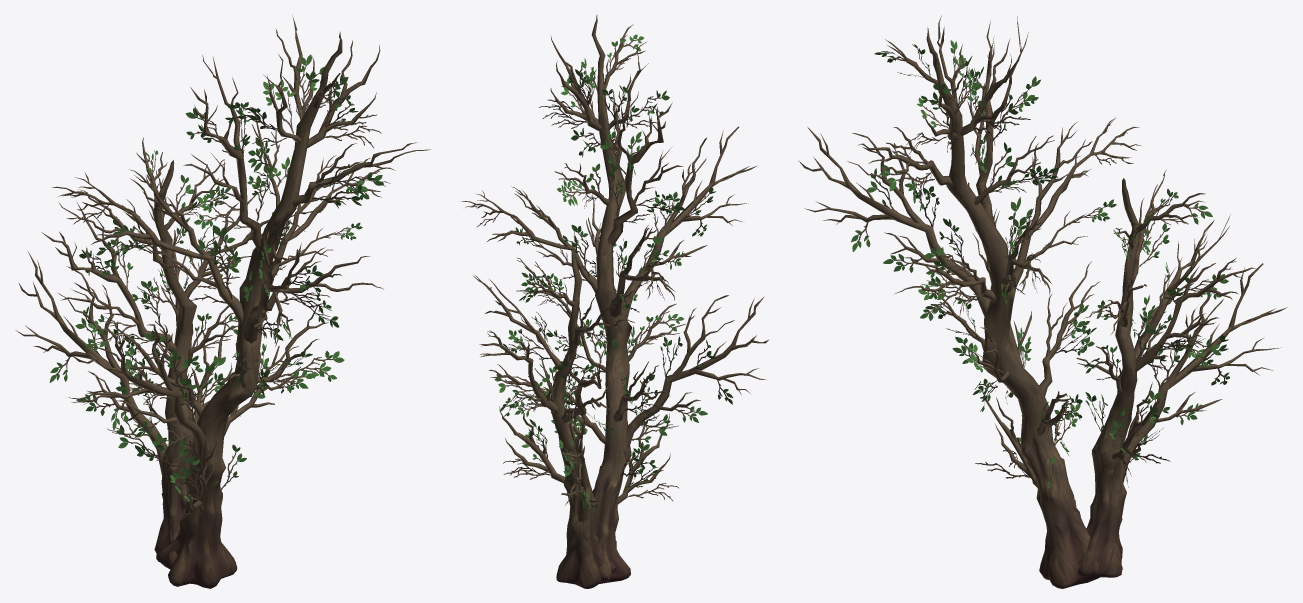
The model's file is SM_FW01_Tree_B_Dead_04.fbx.
3 views of the same model, side by side, from view 1: azimuth 30°, elevation 25°; view 2: azimuth 150°, elevation 25°; view 3: azimuth 270°, elevation 25° (orthographic). The views are drawn at different scales.
Visible parts, largest first — view 1: SM_FW01_Tree_B_Dead_04_LOD0; view 2: SM_FW01_Tree_B_Dead_04_LOD0; view 3: SM_FW01_Tree_B_Dead_04_LOD0.
Boxes of the visible parts, bbox=[...] form: SM_FW01_Tree_B_Dead_04_LOD0: bbox=[15, 15, 430, 588]; SM_FW01_Tree_B_Dead_04_LOD0: bbox=[460, 15, 769, 588]; SM_FW01_Tree_B_Dead_04_LOD0: bbox=[798, 15, 1287, 588].
Size of what is drawn, in the model's own units: 6.91 by 11.35 by 8.6.
